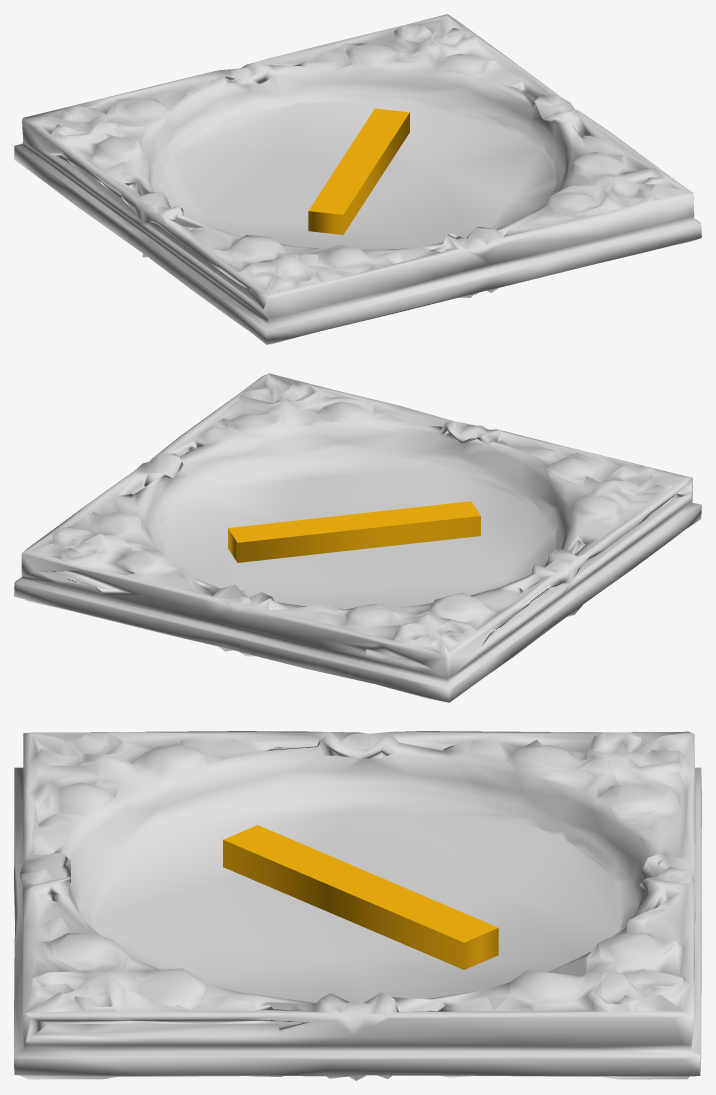
The model's file is sp_tile.glb.
The picture shows the model from 3 angles, top to bottom: view 1: azimuth 30°, elevation 25°; view 2: azimuth 150°, elevation 25°; view 3: azimuth 270°, elevation 25°; orthographic projection. The views are drawn at different scales.
Parts seen in each view (by area): view 1: テキスト; view 2: テキスト; view 3: テキスト.
Boxes of the visible parts, box(x1,y1,x2,y2) form: テキスト: box(14, 14, 701, 344); テキスト: box(14, 373, 701, 702); テキスト: box(14, 731, 701, 1080).
Size of the model in its own units: 3.6 by 0.5 by 3.6.
